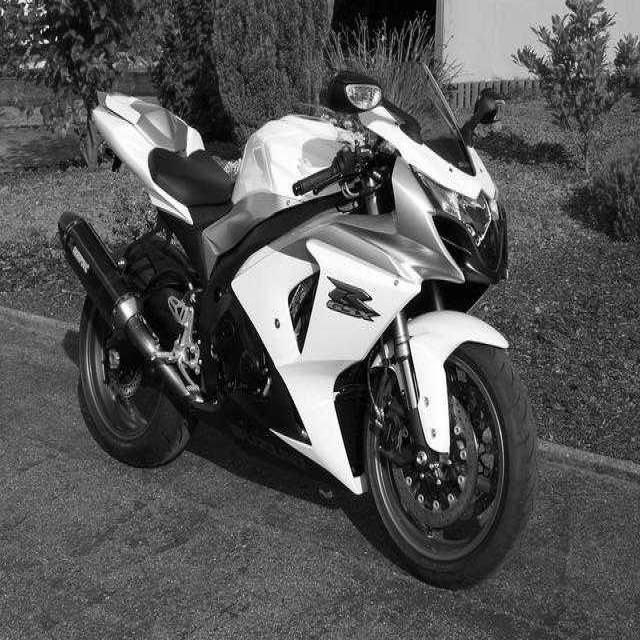Motorcycle: (60, 67, 535, 584)
